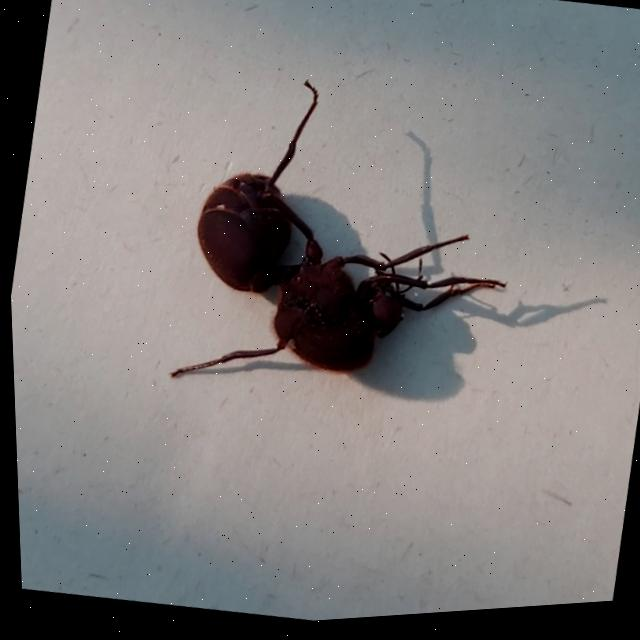Dead-Female-Dealate: (155, 54, 540, 437)
